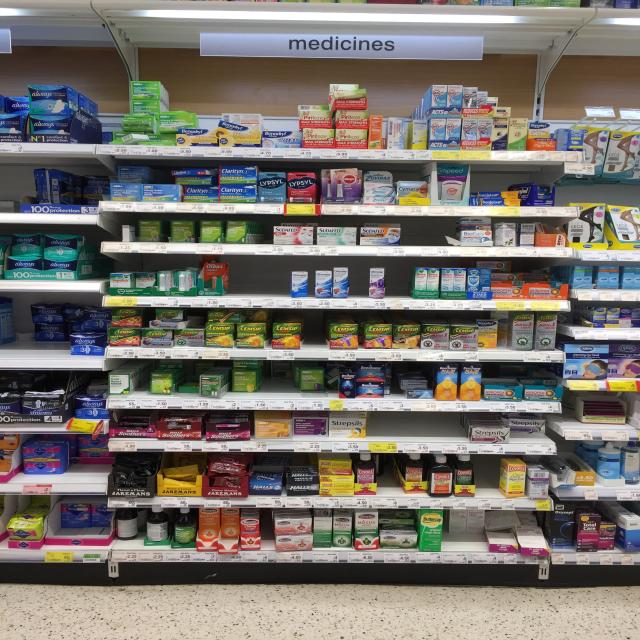void: (417, 410, 470, 451), (0, 293, 29, 367), (406, 217, 459, 257), (368, 415, 416, 452), (0, 159, 30, 216), (232, 254, 262, 307), (263, 256, 289, 309), (386, 265, 413, 312)
